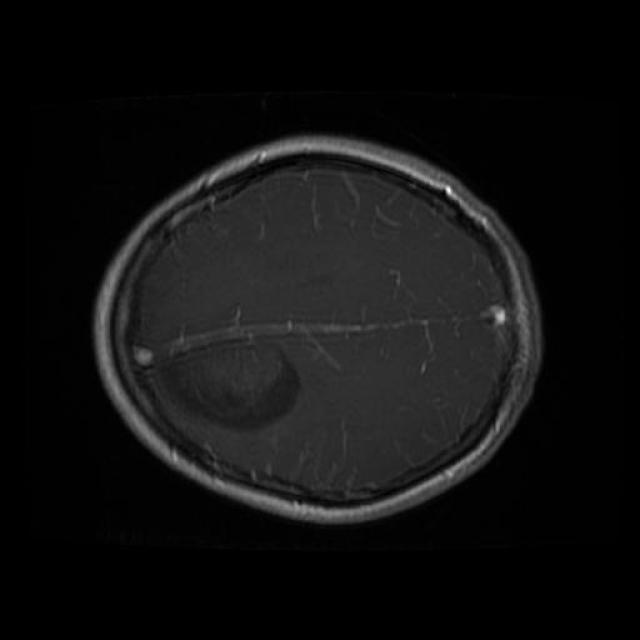Glioma: (160, 341, 300, 430)
